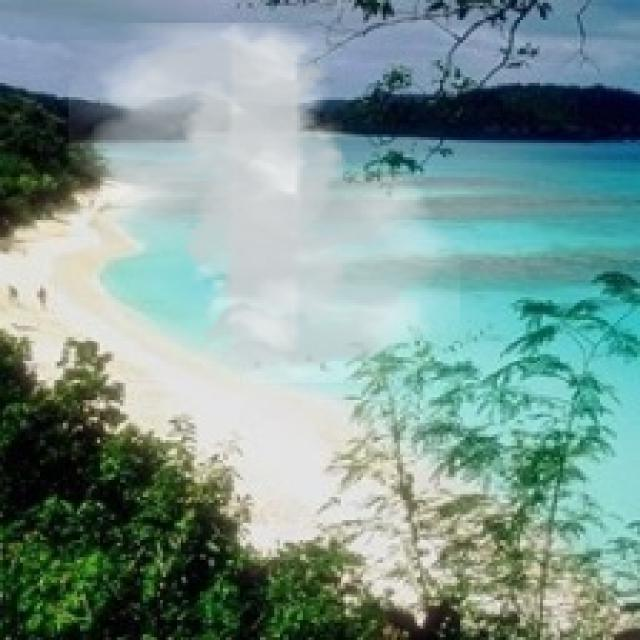Smoke: (68, 23, 460, 383)
